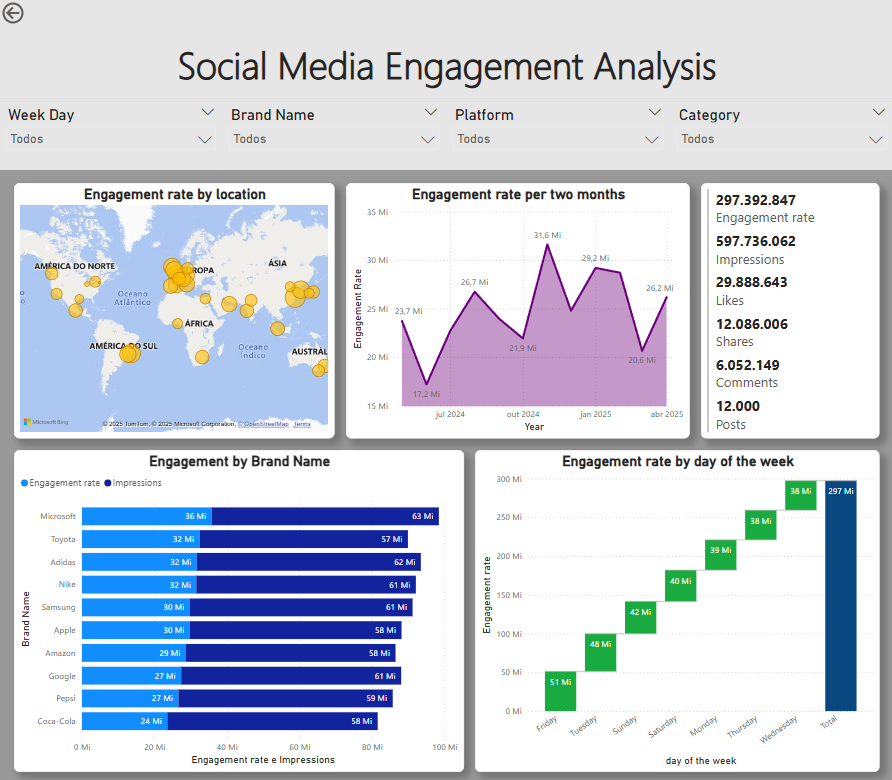

This screenshot's page, from the dashboard's own definition file:
{"tool":"powerbi","page":{"name":"Página 1","canvas":[1280,1120],"ordinal":0},"visuals":[{"type":"waterfallChart","title":"Engagement rate by day of the week","fields":{"Category":["Social Media Engagement Dataset.day_of_week"],"Y":["Sum(Social Media Engagement Dataset.engagement_rate)"]},"box":[680,644,578,460],"z":0},{"type":"textbox","box":[0,0,1280,147],"z":1000},{"type":"lineChart","title":"Engagement rate per two months","fields":{"Y":["Sum(Social Media Engagement Dataset.engagement_rate)"],"Category":["Social Media Engagement Dataset.timestamp.Variation.Hierarquia de datas.Ano","Social Media Engagement Dataset.timestamp.Variation.Hierarquia de datas.Mês"]},"box":[495,263,491,365],"z":2000},{"type":"slicer","fields":{"Values":["Social Media Engagement Dataset.day_of_week"]},"box":[0,147,320,97],"z":3000},{"type":"actionButton","box":[0,0,100,40],"z":4000},{"type":"slicer","fields":{"Values":["Social Media Engagement Dataset.brand_name"]},"box":[319,147,320,97],"z":5000},{"type":"slicer","fields":{"Values":["Social Media Engagement Dataset.topic_category"]},"box":[959,147,320,97],"z":6000},{"type":"slicer","fields":{"Values":["Social Media Engagement Dataset.platform"]},"box":[639,147,320,97],"z":7000},{"type":"map","title":"Engagement rate by location","fields":{"Category":["Social Media Engagement Dataset.location"],"Size":["Sum(Social Media Engagement Dataset.engagement_rate)"]},"box":[21,263,458,365],"z":8000},{"type":"barChart","title":"Engagement by  Brand Name","fields":{"Category":["Social Media Engagement Dataset.brand_name"],"Y":["Sum(Social Media Engagement Dataset.engagement_rate)","Sum(Social Media Engagement Dataset.impressions)"]},"box":[21,644,643,460],"z":9000},{"type":"multiRowCard","fields":{"Values":["Sum(Social Media Engagement Dataset.engagement_rate)","Sum(Social Media Engagement Dataset.impressions)","Sum(Social Media Engagement Dataset.likes_count)","Sum(Social Media Engagement Dataset.shares_count)","Sum(Social Media Engagement Dataset.comments_count)","Social Media Engagement Dataset.QtdPosts"]},"box":[1003,263,255,365],"z":10000}]}

Visuals, with their boxes in screenshot pixels (x1, y1, x2, y2), scaled from the page's 1280x1120 canvas onto the 892x780 screenshot:
"Engagement rate by day of the week" waterfallChart: bbox(474, 448, 877, 769)
textbox: bbox(0, 0, 891, 102)
"Engagement rate per two months" lineChart: bbox(345, 183, 687, 437)
slicer - Social Media Engagement Dataset.day_of_week: bbox(0, 102, 223, 170)
actionButton: bbox(0, 0, 70, 28)
slicer - Social Media Engagement Dataset.brand_name: bbox(222, 102, 445, 170)
slicer - Social Media Engagement Dataset.topic_category: bbox(668, 102, 891, 170)
slicer - Social Media Engagement Dataset.platform: bbox(445, 102, 668, 170)
"Engagement rate by location" map: bbox(15, 183, 334, 437)
"Engagement by  Brand Name" barChart: bbox(15, 448, 463, 769)
multiRowCard - Sum(Social Media Engagement Dataset.engagement_rate) x Sum(Social Media Engagement Dataset.impressions): bbox(699, 183, 877, 437)
